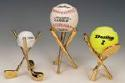tennis ball: (87, 25, 121, 55)
